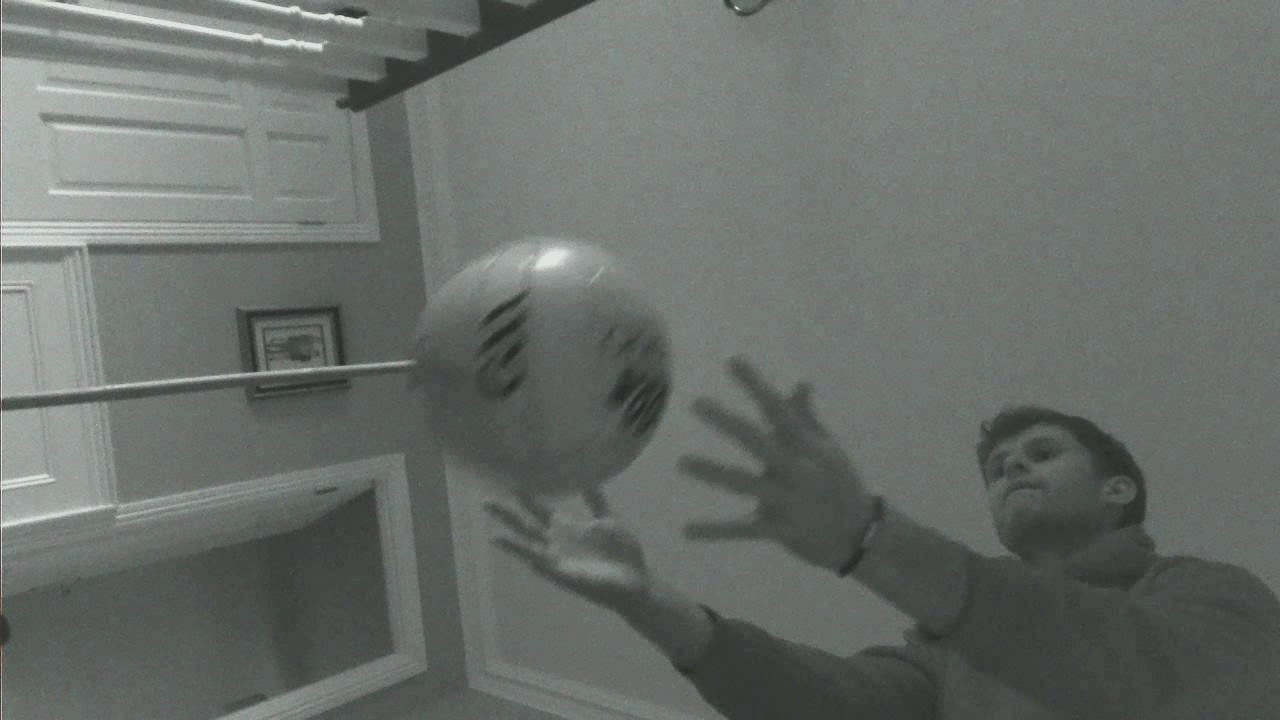Football-Spotter: (415, 238, 670, 495)
